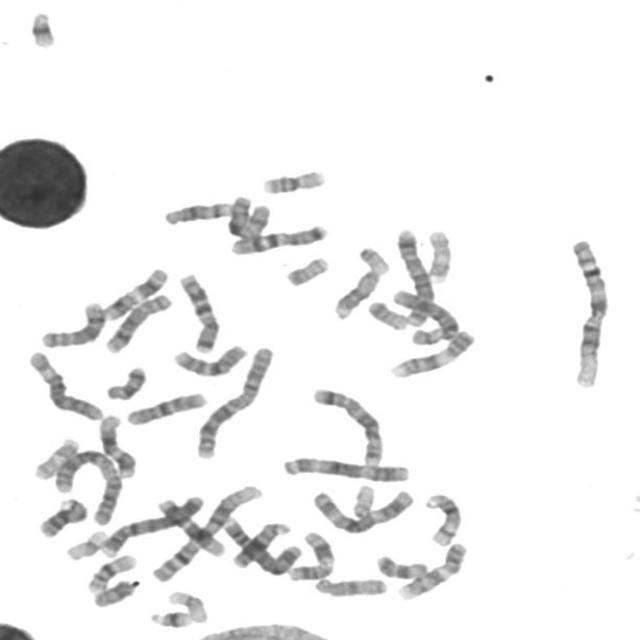A1: (148, 479, 266, 584), (566, 232, 612, 390)
A2: (192, 342, 277, 460), (50, 446, 125, 526)
A3: (307, 484, 417, 535), (278, 451, 413, 484)
B4: (96, 490, 207, 559), (221, 514, 302, 574)
B5: (308, 383, 386, 467), (392, 224, 437, 330)
C10: (122, 388, 211, 427), (169, 340, 250, 378)
C11: (98, 262, 171, 321), (282, 526, 339, 583)
C12: (151, 493, 226, 558), (94, 410, 140, 480)
C6: (24, 346, 106, 422), (390, 285, 463, 345)
C7: (174, 268, 223, 355), (225, 219, 332, 257)
C8: (101, 289, 175, 355), (36, 296, 108, 349)
C9: (386, 325, 477, 380), (394, 538, 470, 601)
D13: (229, 520, 294, 571), (34, 492, 91, 539)
D14: (422, 488, 465, 548), (160, 196, 238, 227)
D15: (332, 269, 382, 326), (309, 572, 391, 599)
E16: (83, 549, 140, 595), (258, 164, 330, 196)
E17: (30, 437, 86, 481), (423, 224, 456, 284)
E18: (102, 361, 149, 402), (372, 550, 432, 580)
F19: (162, 586, 212, 624), (62, 526, 110, 562)
F20: (282, 252, 332, 288), (364, 296, 411, 331)
G21: (25, 5, 59, 50), (146, 606, 195, 629)
G22: (354, 242, 393, 274), (347, 480, 378, 520)
X: (224, 190, 274, 240)
Y: (90, 574, 138, 608)
